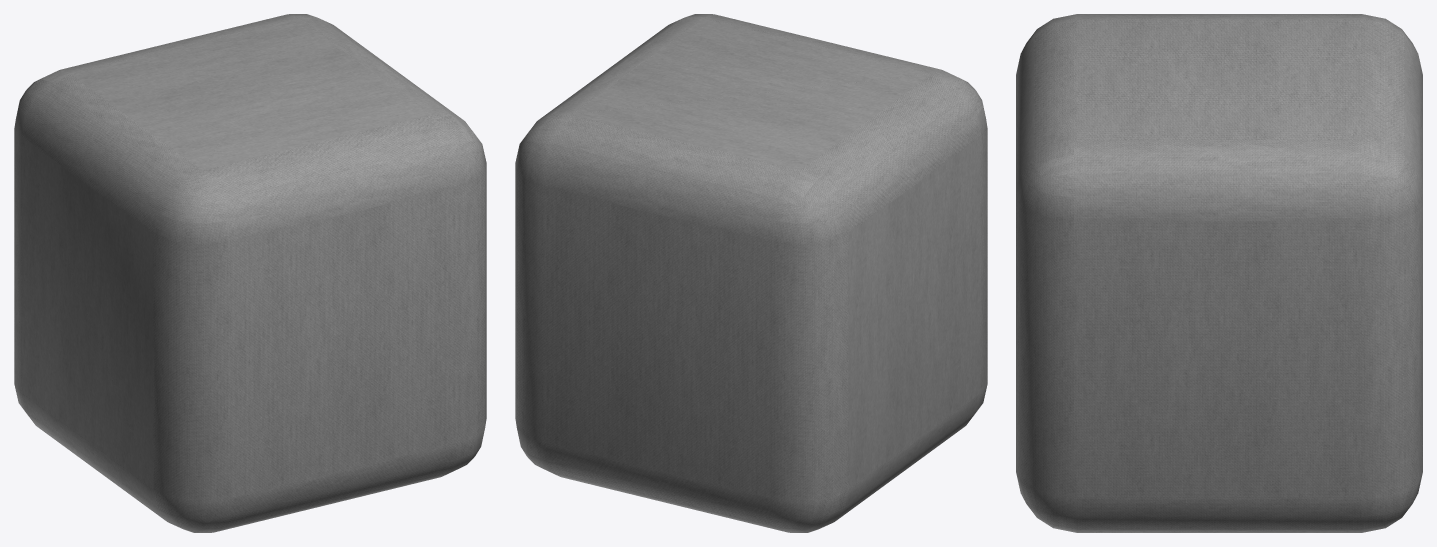
The model's file is lounge.ottoman.glb.
3 renders of one model, left to right at view 1: azimuth 30°, elevation 25°; view 2: azimuth 150°, elevation 25°; view 3: azimuth 270°, elevation 25°, orthographic. The views are drawn at different scales.
Parts seen in each view (by area): view 1: lounge.ottoman.001; view 2: lounge.ottoman.001; view 3: lounge.ottoman.001.
Part boxes in pixels (x1,y1,x2,y2): lounge.ottoman.001: (14,14,486,532); lounge.ottoman.001: (515,14,987,532); lounge.ottoman.001: (1016,14,1422,532).
Size of the model in its own units: 0.4 by 0.42 by 0.4.
Materials: 1 (1 with a texture image).
